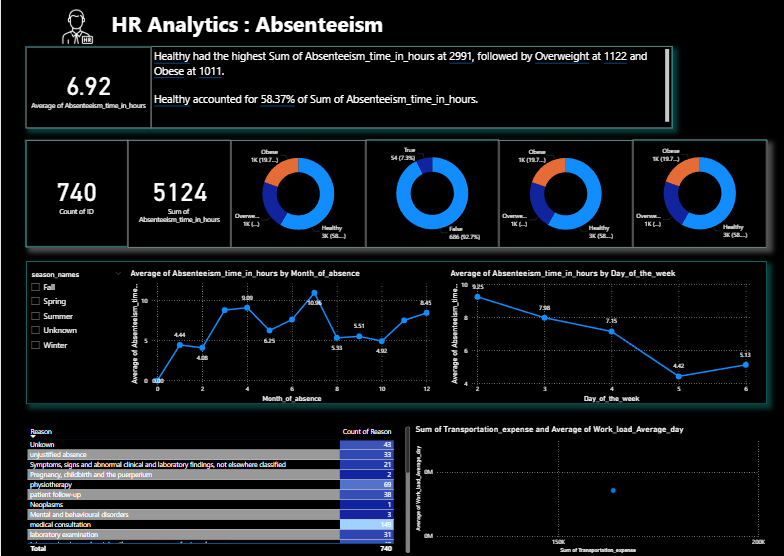

The page's visual inventory and layout, read from the dashboard file:
{"tool":"powerbi","page":{"name":"Page 1","canvas":[1580,1120],"ordinal":0},"visuals":[{"type":"shape","box":[47.6,96.8,1300,165.1],"z":0},{"type":"shape","box":[50.8,528.6,1487.3,287.3],"z":1000},{"type":"shape","box":[50.8,284.1,1488.9,215.9],"z":2000},{"type":"donutChart","fields":{"Category":["Query1.BMIcategory"],"Y":["Sum(Query1.Absenteeism_time_in_hours)"]},"box":[461.8,284.8,270,216],"z":3000},{"type":"card","fields":{"Values":["Avg(Query1.Absenteeism_time_in_hours)"]},"box":[50.8,98.4,250.8,163.5],"z":4000},{"type":"donutChart","fields":{"Category":["Query1.BMIcategory"],"Y":["Sum(Query1.Absenteeism_time_in_hours)"]},"box":[999.3,284.8,268,216],"z":5000},{"type":"donutChart","fields":{"Category":["Query1.Social_smoker"],"Y":["CountNonNull(Query1.Social_smoker)"]},"box":[732.5,283.8,266,218],"z":6000},{"type":"donutChart","fields":{"Category":["Query1.BMIcategory"],"Y":["Sum(Query1.Absenteeism_time_in_hours)"]},"box":[1268,283.8,268,218],"z":7000},{"type":"textbox","box":[301.6,96.8,1046,165.1],"z":8000},{"type":"textbox","box":[215.9,19,619,79.4],"z":9000},{"type":"image","box":[92.1,17.5,123.8,79.4],"z":10000},{"type":"card","fields":{"Values":["CountNonNull(Query1.ID)"]},"box":[47.6,284.1,206.3,214.3],"z":11000},{"type":"card","fields":{"Values":["Sum(Query1.Absenteeism_time_in_hours)"]},"box":[254.7,284.8,206.3,215.9],"z":12000},{"type":"slicer","fields":{"Values":["Query1.season_names"]},"box":[48,542,206,200],"z":13000},{"type":"lineChart","fields":{"Y":["Avg(Query1.Absenteeism_time_in_hours)"],"Category":["Query1.Month_of_absence"]},"box":[254,541.3,614.3,274.6],"z":14000},{"type":"lineChart","fields":{"Y":["Avg(Query1.Absenteeism_time_in_hours)"],"Category":["Query1.Day_of_the_week"]},"box":[896.8,541.3,612.7,274.6],"z":15000},{"type":"tableEx","fields":{"Values":["Query1.Reason","CountNonNull(Query1.Reason)"]},"box":[48,856,778,264],"z":16000},{"type":"scatterChart","fields":{"X":["Sum(Query1.Transportation_expense)"],"Y":["Avg(Query1.Work_load_Average_day)"]},"box":[826,856,712,264],"z":17000}]}

Visuals, with their boxes in screenshot pixels (x1, y1, x2, y2), scaled from the page's 1580x1120 canvas onto the 784x556 screenshot:
shape: (x1=24, y1=48, x2=669, y2=130)
shape: (x1=25, y1=262, x2=763, y2=405)
shape: (x1=25, y1=141, x2=764, y2=248)
donutChart - Query1.BMIcategory x Sum(Query1.Absenteeism_time_in_hours): (x1=229, y1=141, x2=363, y2=249)
card - Avg(Query1.Absenteeism_time_in_hours): (x1=25, y1=49, x2=150, y2=130)
donutChart - Query1.BMIcategory x Sum(Query1.Absenteeism_time_in_hours): (x1=496, y1=141, x2=629, y2=249)
donutChart - Query1.Social_smoker x CountNonNull(Query1.Social_smoker): (x1=363, y1=141, x2=495, y2=249)
donutChart - Query1.BMIcategory x Sum(Query1.Absenteeism_time_in_hours): (x1=629, y1=141, x2=762, y2=249)
textbox: (x1=150, y1=48, x2=669, y2=130)
textbox: (x1=107, y1=9, x2=414, y2=49)
image: (x1=46, y1=9, x2=107, y2=48)
card - CountNonNull(Query1.ID): (x1=24, y1=141, x2=126, y2=247)
card - Sum(Query1.Absenteeism_time_in_hours): (x1=126, y1=141, x2=229, y2=249)
slicer - Query1.season_names: (x1=24, y1=269, x2=126, y2=368)
lineChart - Avg(Query1.Absenteeism_time_in_hours) x Query1.Month_of_absence: (x1=126, y1=269, x2=431, y2=405)
lineChart - Avg(Query1.Absenteeism_time_in_hours) x Query1.Day_of_the_week: (x1=445, y1=269, x2=749, y2=405)
tableEx - Query1.Reason x CountNonNull(Query1.Reason): (x1=24, y1=425, x2=410, y2=555)
scatterChart - Sum(Query1.Transportation_expense) x Avg(Query1.Work_load_Average_day): (x1=410, y1=425, x2=763, y2=555)
